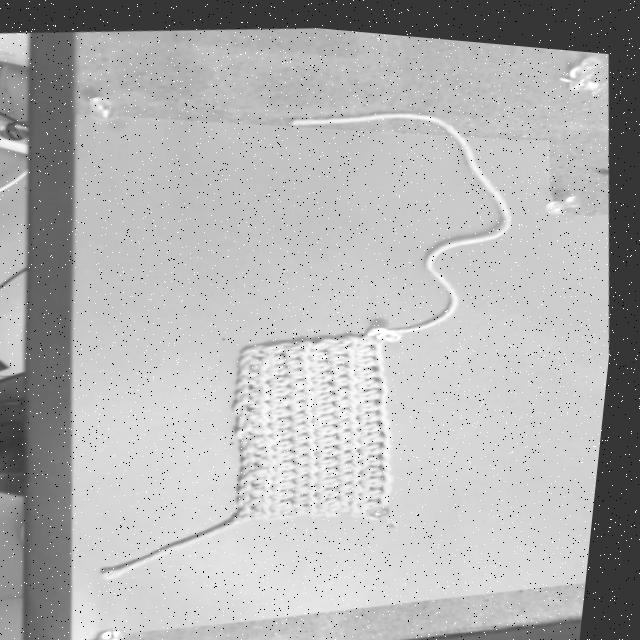ch: (243, 388, 255, 410), (248, 413, 260, 432), (246, 347, 260, 363), (246, 485, 260, 500), (249, 495, 261, 512), (243, 378, 256, 393), (246, 400, 255, 421), (249, 475, 261, 489), (250, 466, 262, 480), (252, 446, 264, 460), (253, 455, 265, 468), (250, 425, 260, 440), (251, 438, 263, 450), (249, 340, 265, 349), (245, 370, 255, 383), (248, 358, 256, 369)
sc: (333, 332, 372, 346), (365, 419, 400, 434), (370, 462, 402, 478), (366, 409, 397, 425), (368, 441, 399, 457), (300, 401, 332, 416), (258, 489, 292, 503), (298, 413, 332, 427), (300, 485, 336, 498), (299, 424, 335, 437), (337, 365, 373, 378), (365, 387, 396, 402), (296, 391, 331, 404), (363, 366, 393, 381), (366, 376, 396, 391), (365, 399, 395, 414), (372, 474, 400, 490), (340, 398, 374, 411), (257, 428, 290, 441), (259, 415, 289, 429), (256, 349, 284, 364), (301, 495, 336, 507), (290, 350, 325, 362), (334, 344, 369, 356), (370, 453, 400, 467), (346, 451, 378, 464), (361, 332, 387, 348), (368, 432, 400, 445), (372, 485, 398, 501), (253, 406, 287, 418), (294, 381, 328, 393), (345, 462, 379, 474), (303, 465, 336, 477), (301, 445, 334, 457), (346, 473, 379, 485), (345, 441, 378, 453), (344, 420, 377, 432), (263, 449, 293, 462), (343, 386, 373, 399), (293, 360, 328, 371), (341, 409, 376, 420), (304, 475, 336, 487), (301, 434, 333, 446), (345, 430, 377, 442), (341, 376, 373, 388), (319, 330, 345, 344), (281, 472, 314, 483), (319, 406, 352, 417), (263, 438, 293, 450), (305, 456, 337, 467), (297, 371, 329, 382), (321, 416, 353, 427), (264, 339, 299, 349), (335, 356, 370, 366), (276, 389, 307, 400), (327, 489, 358, 500), (322, 394, 350, 406), (262, 469, 292, 480), (262, 460, 292, 471), (323, 428, 356, 438), (325, 469, 355, 480), (361, 358, 391, 369), (281, 493, 313, 503), (260, 478, 289, 489), (254, 363, 283, 374), (290, 333, 319, 344), (348, 484, 377, 495), (255, 384, 286, 394), (275, 369, 306, 379), (277, 411, 308, 421), (324, 438, 355, 448), (257, 395, 285, 406), (257, 373, 285, 384), (283, 462, 311, 473), (318, 353, 346, 364), (326, 458, 354, 469), (361, 347, 389, 358), (283, 431, 308, 443), (262, 501, 289, 512), (292, 342, 325, 351), (282, 482, 311, 492), (319, 364, 348, 374), (318, 374, 347, 384), (322, 384, 351, 394), (326, 449, 355, 459), (275, 358, 303, 368), (279, 379, 307, 389), (284, 453, 312, 463), (280, 422, 307, 432), (331, 499, 361, 508), (351, 495, 378, 505), (278, 401, 307, 410), (327, 480, 356, 489), (284, 443, 311, 452), (316, 343, 343, 352), (279, 347, 300, 357)
